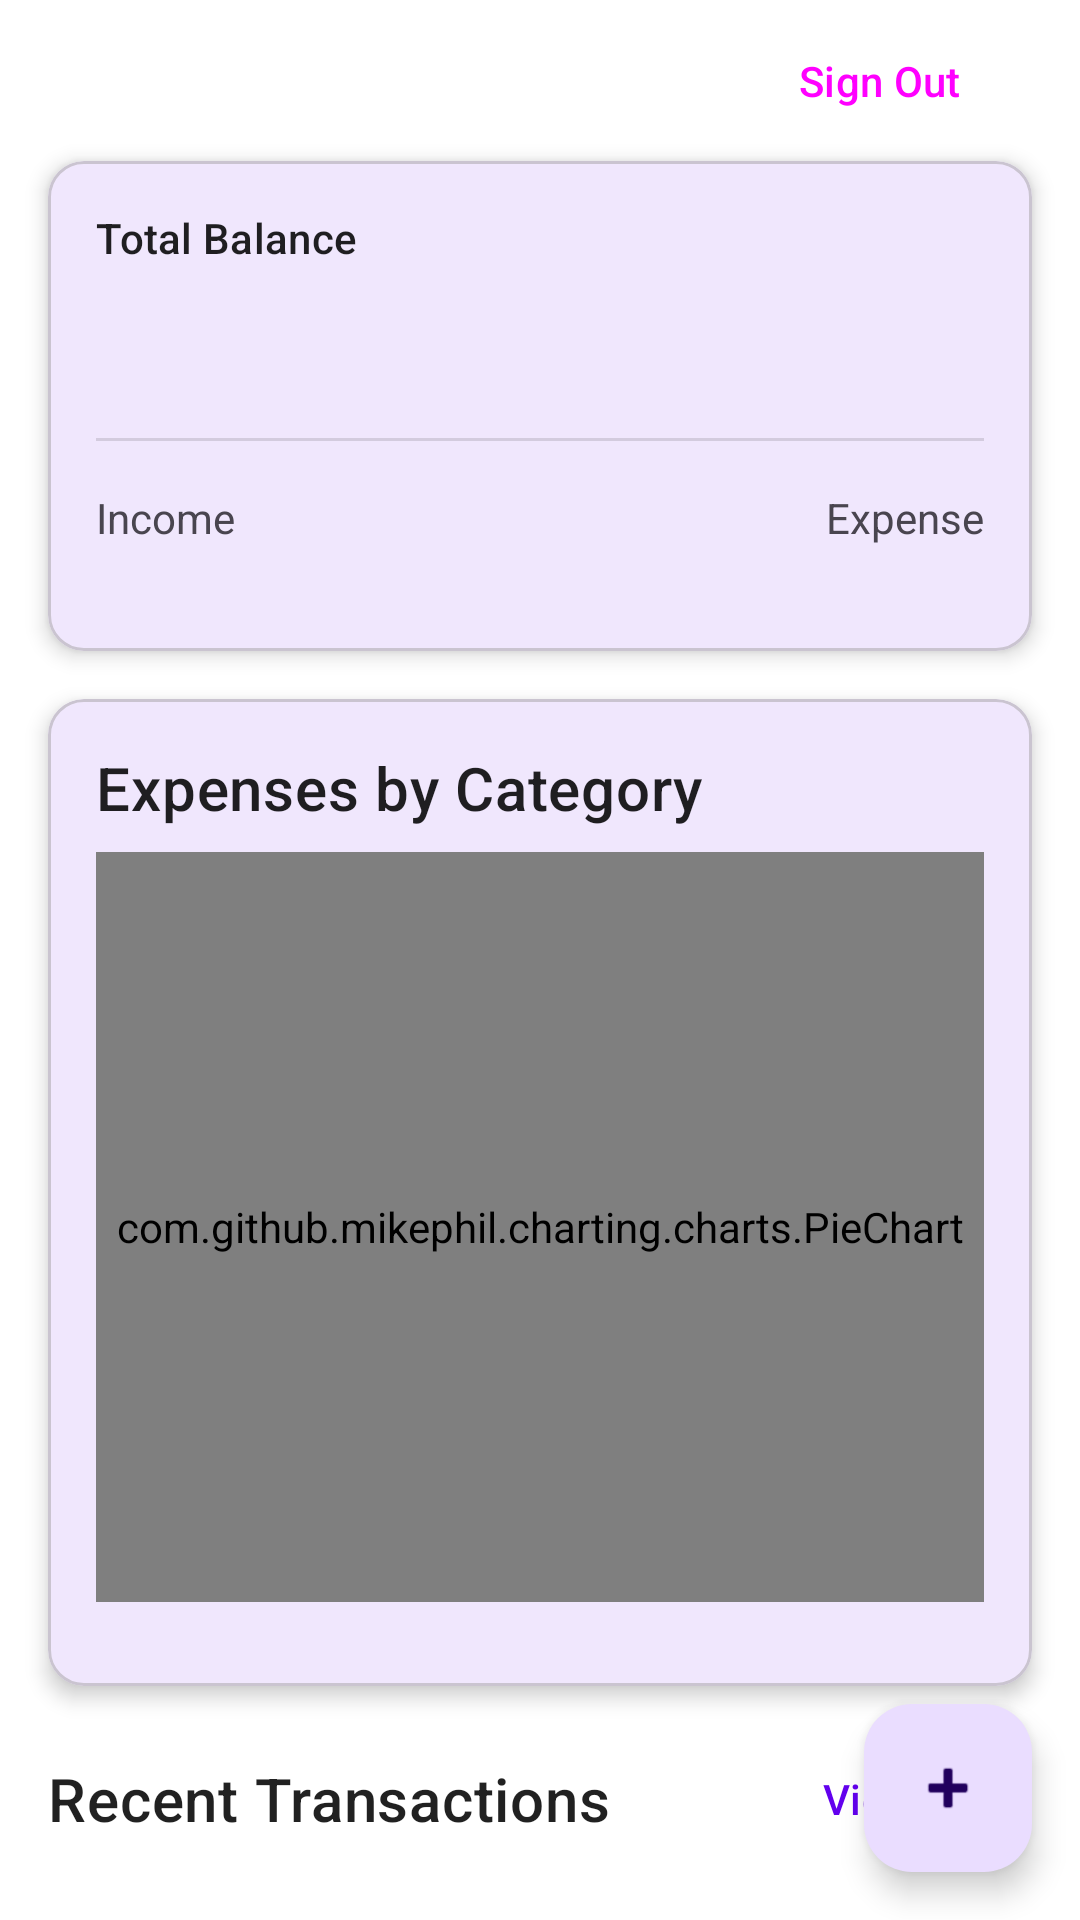

Named icons in this screenshot (1080x1920) and their centers, (x=x, y=y):
Add new transaction: (x=948, y=1788)
